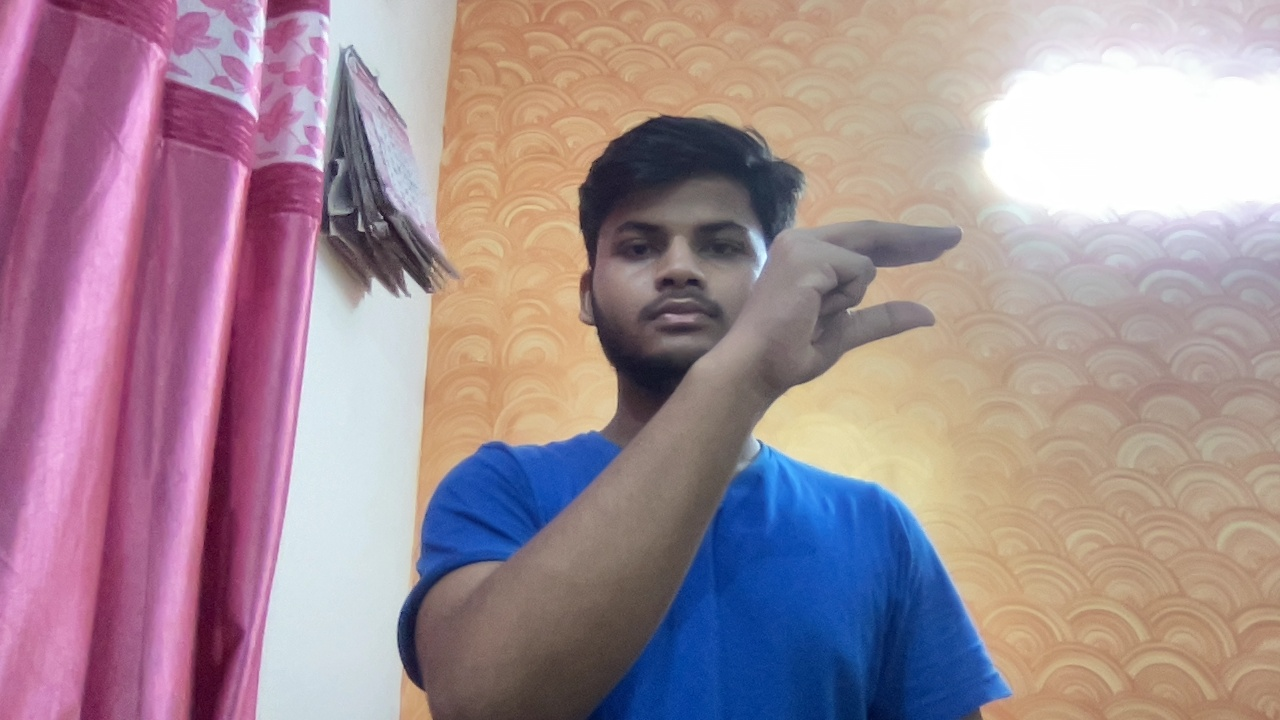no: (711, 182, 997, 411)
